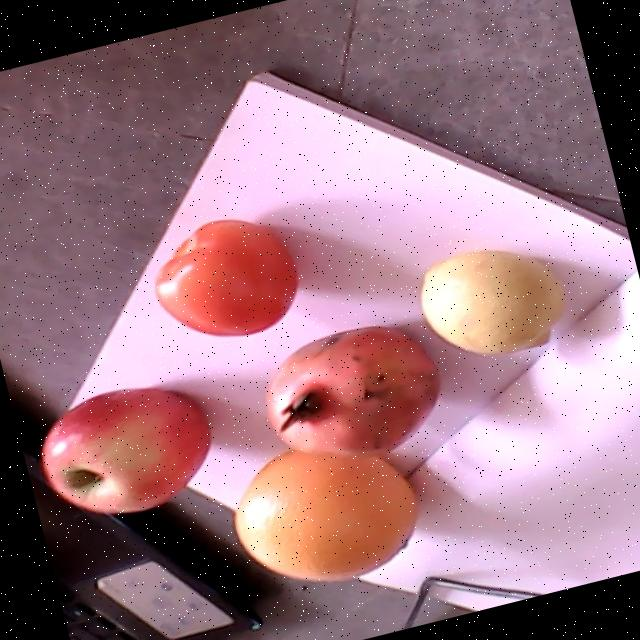apple: (41, 387, 209, 509)
lemon: (419, 248, 565, 355)
orange: (235, 451, 420, 582)
pomegranate: (263, 325, 442, 454)
tomato: (157, 217, 298, 335)
